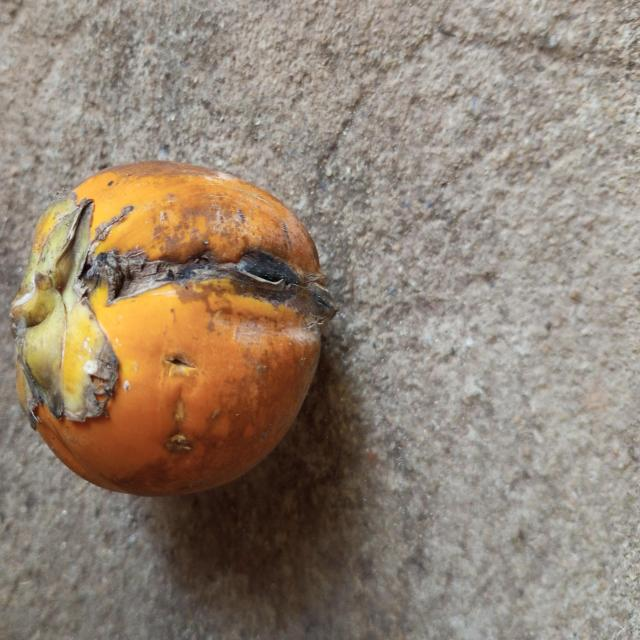damaged: (11, 162, 336, 495)
